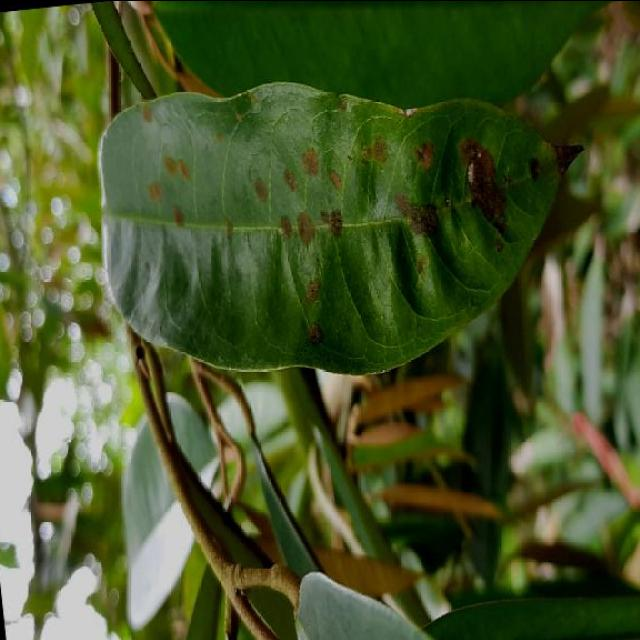Algal Leaf Spot: (77, 41, 614, 409)
